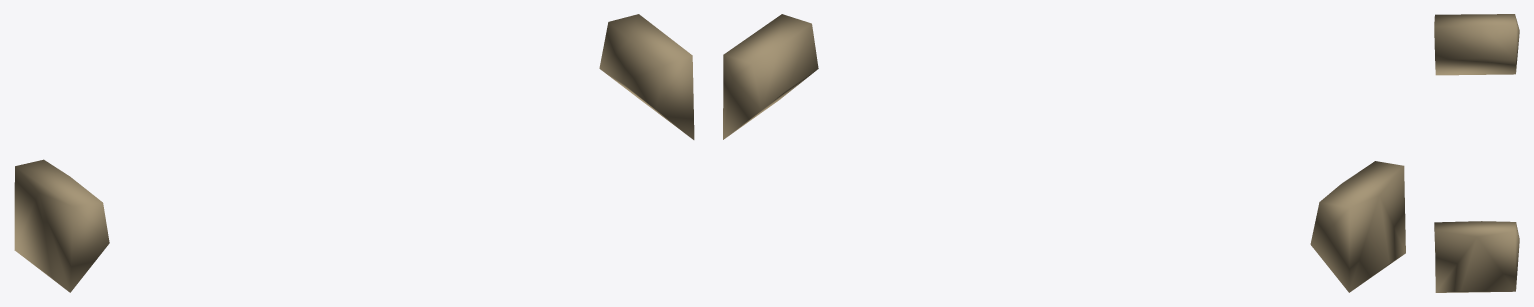
File: Sofa.002.fbx
3 views of the same model, side by side, from view 1: azimuth 30°, elevation 25°; view 2: azimuth 150°, elevation 25°; view 3: azimuth 270°, elevation 25° (orthographic). The views are drawn at different scales.
Visible parts, largest first — view 1: Sofa.002; view 2: Sofa.002; view 3: Sofa.002.
Boxes of the visible parts, box(x1,y1,x2,y2) form: Sofa.002: box(14, 14, 694, 292); Sofa.002: box(723, 14, 1405, 292); Sofa.002: box(1434, 14, 1519, 292).
Bounding box in the file's own units: 367 × 47.92 × 60.44.
